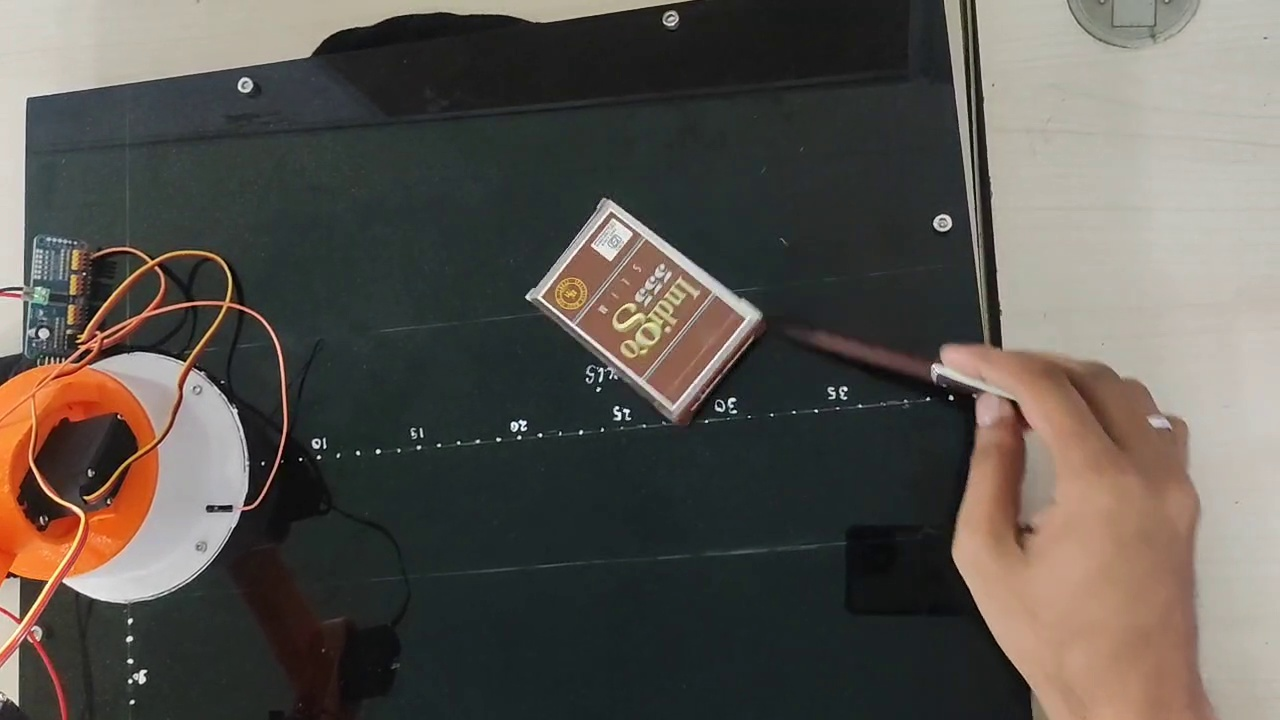BEX: (542, 212, 748, 412)
